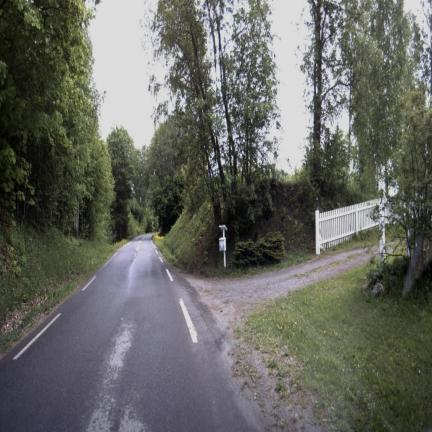Road: (0, 236, 265, 431)
